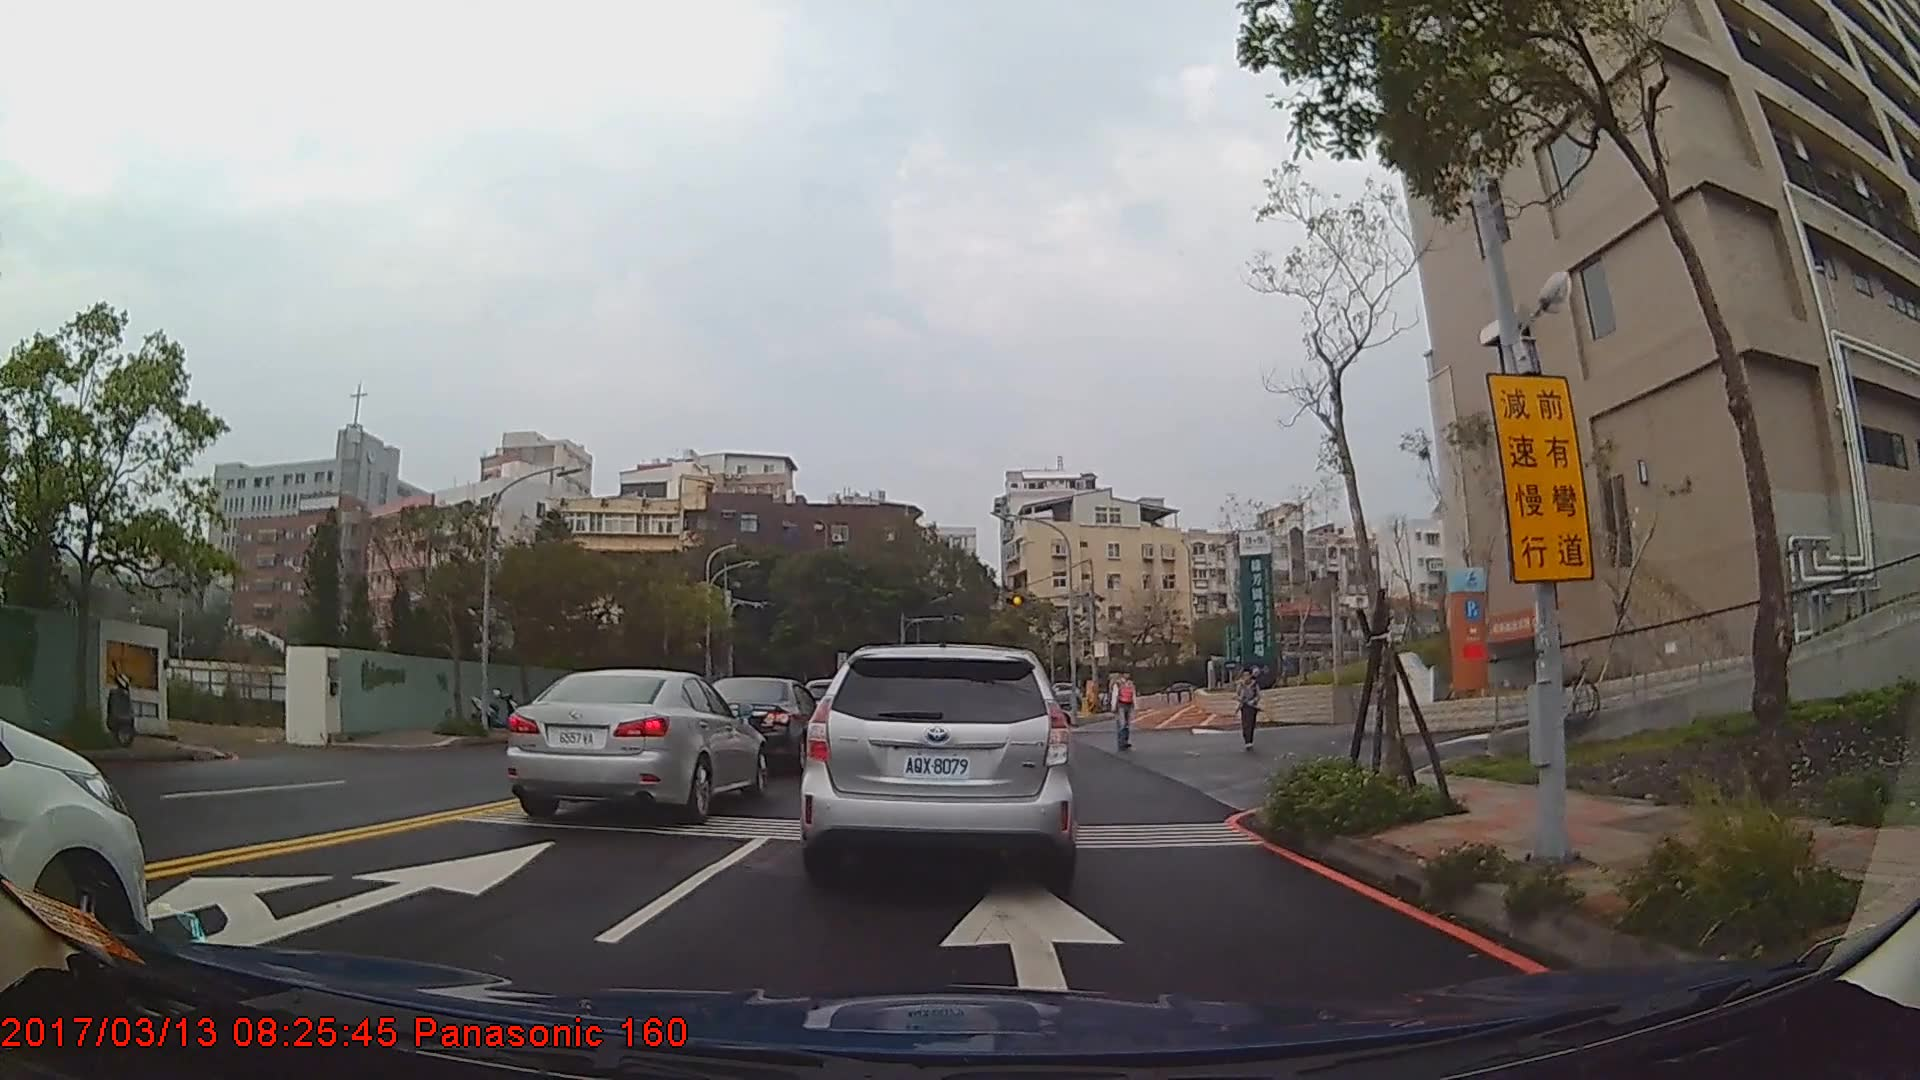pedestrian: (1108, 670, 1139, 751), (1236, 669, 1262, 752)
vehicle: (799, 642, 1077, 882), (505, 667, 766, 821), (699, 674, 819, 772)
